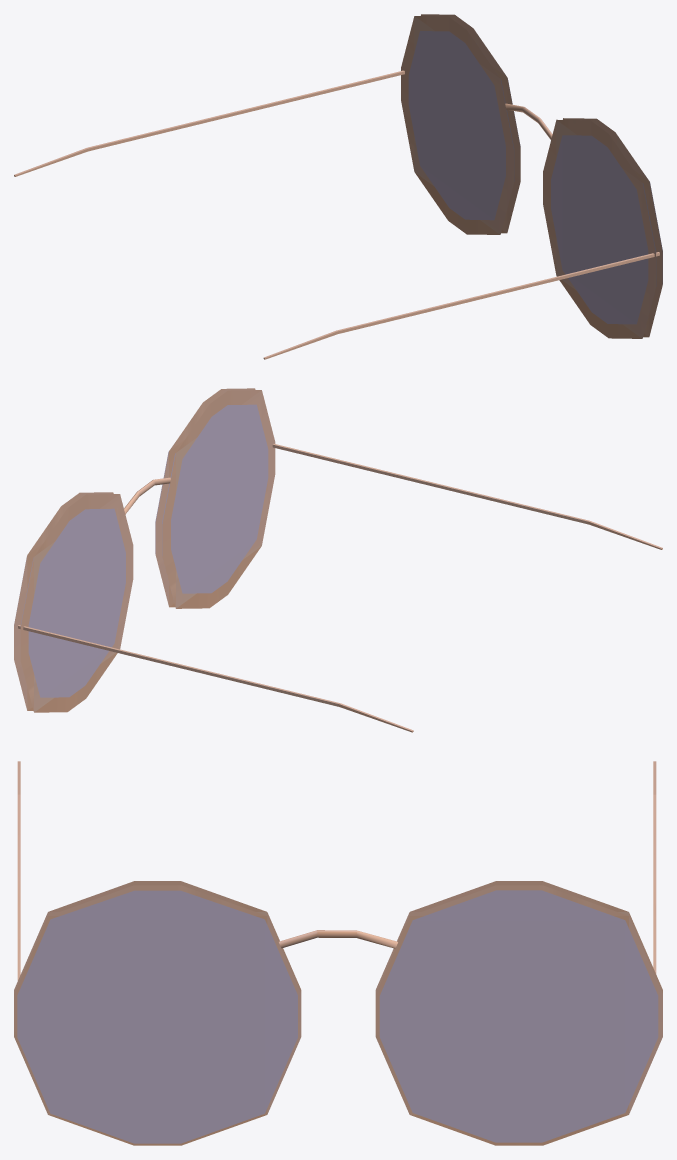
File: purpleSG.glb
3 views of the same model, one above another, from view 1: azimuth 30°, elevation 25°; view 2: azimuth 150°, elevation 25°; view 3: azimuth 270°, elevation 25° (orthographic). The views are drawn at different scales.
Visible parts, largest first — view 1: glass2.001, glass2.002, Cube.001, Cube, Cube.004, Cube.003; view 2: glass2.002, glass2.001, Cube, Cube.001, Cube.003, Cube.004; view 3: glass1, glass2, Cube.001, Cube, Cylinder, Cube.004, Cube.003.
Boxes of the visible parts, x1=… form: glass2.001: x1=408, y1=31, x2=505, y2=220; glass2.002: x1=551, y1=135, x2=648, y2=324; Cube.001: x1=401, y1=14, x2=520, y2=234; Cube: x1=543, y1=118, x2=662, y2=338; Cube.004: x1=263, y1=252, x2=659, y2=359; Cube.003: x1=14, y1=70, x2=404, y2=176; glass2.002: x1=171, y1=404, x2=268, y2=593; glass2.001: x1=28, y1=508, x2=125, y2=697; Cube: x1=155, y1=388, x2=275, y2=608; Cube.001: x1=14, y1=492, x2=133, y2=712; Cube.003: x1=18, y1=625, x2=413, y2=732; Cube.004: x1=272, y1=444, x2=662, y2=549; glass1: x1=17, y1=890, x2=297, y2=1143; glass2: x1=379, y1=890, x2=658, y2=1142; Cube.001: x1=375, y1=881, x2=662, y2=1145; Cube: x1=14, y1=881, x2=301, y2=1145; Cylinder: x1=279, y1=930, x2=397, y2=948; Cube.004: x1=17, y1=761, x2=20, y2=980; Cube.003: x1=653, y1=761, x2=656, y2=973.
Bounding box in the file's own units: 4.07 × 2 × 4.52.
2 materials, 1 textured.
